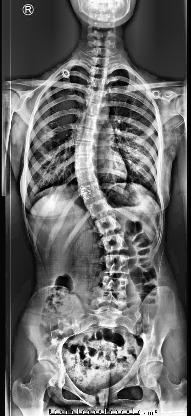Vertebrae: (100, 275, 130, 299), (93, 214, 124, 237), (78, 181, 106, 205), (85, 198, 115, 220), (99, 233, 129, 255), (103, 253, 132, 275), (76, 112, 106, 130), (74, 168, 100, 187), (74, 139, 98, 158), (73, 154, 98, 172), (84, 86, 110, 102), (83, 100, 107, 116), (74, 126, 98, 142), (88, 64, 110, 80), (87, 76, 108, 90)
